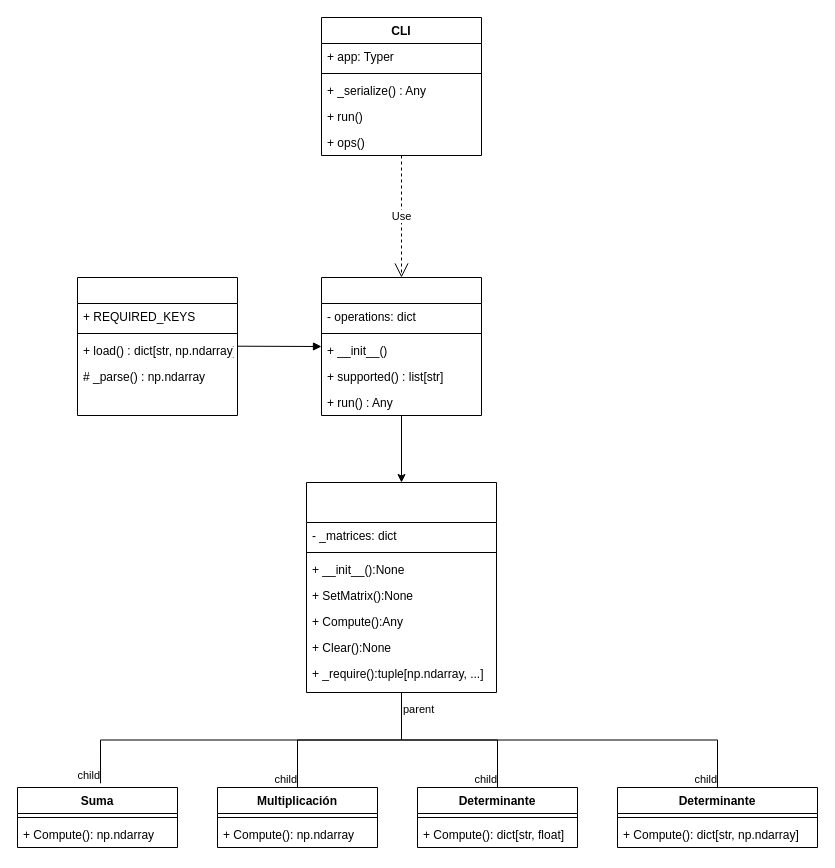
The diagram is 835 pixels wide and 868 high, and some of its shapes have lost their labels. The box of each missing label's shape, as (x1, y1, x2, y2) in pixels:
Aplicacion: (320, 276, 482, 416)
JSONAdapter: (76, 276, 238, 416)
«abstract» Operation: (306, 482, 496, 692)
